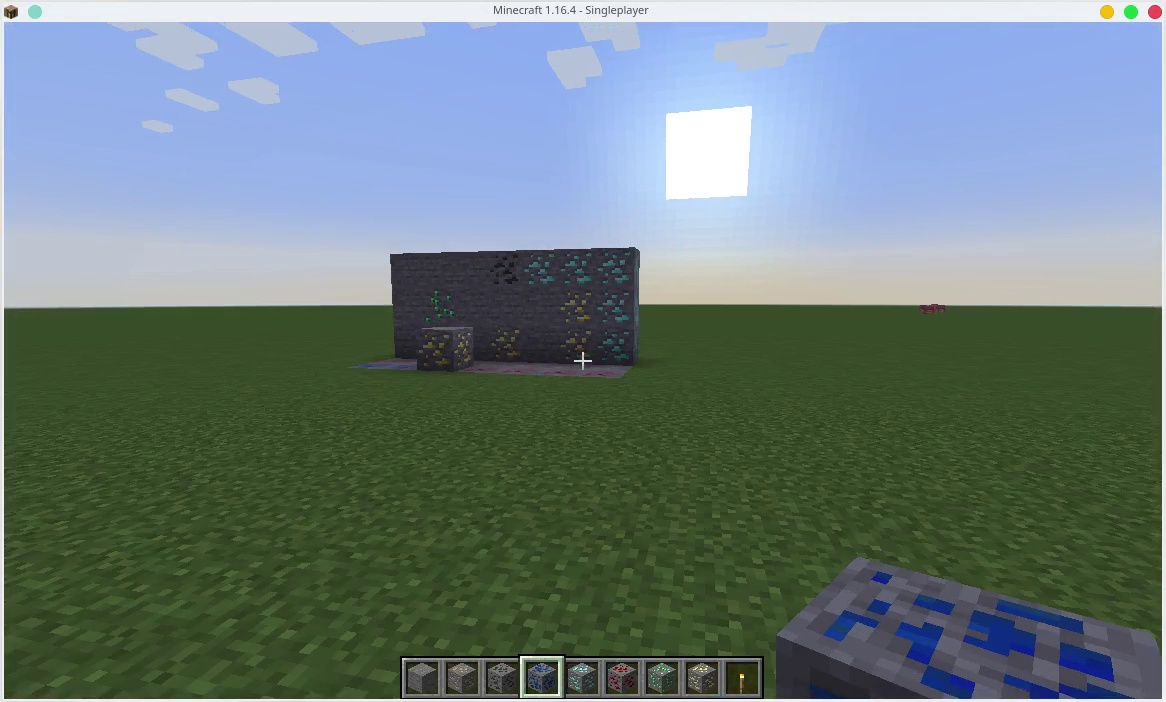gold: (424, 323, 466, 367), (480, 324, 529, 360), (554, 324, 595, 358), (687, 663, 718, 697), (558, 296, 592, 322)
